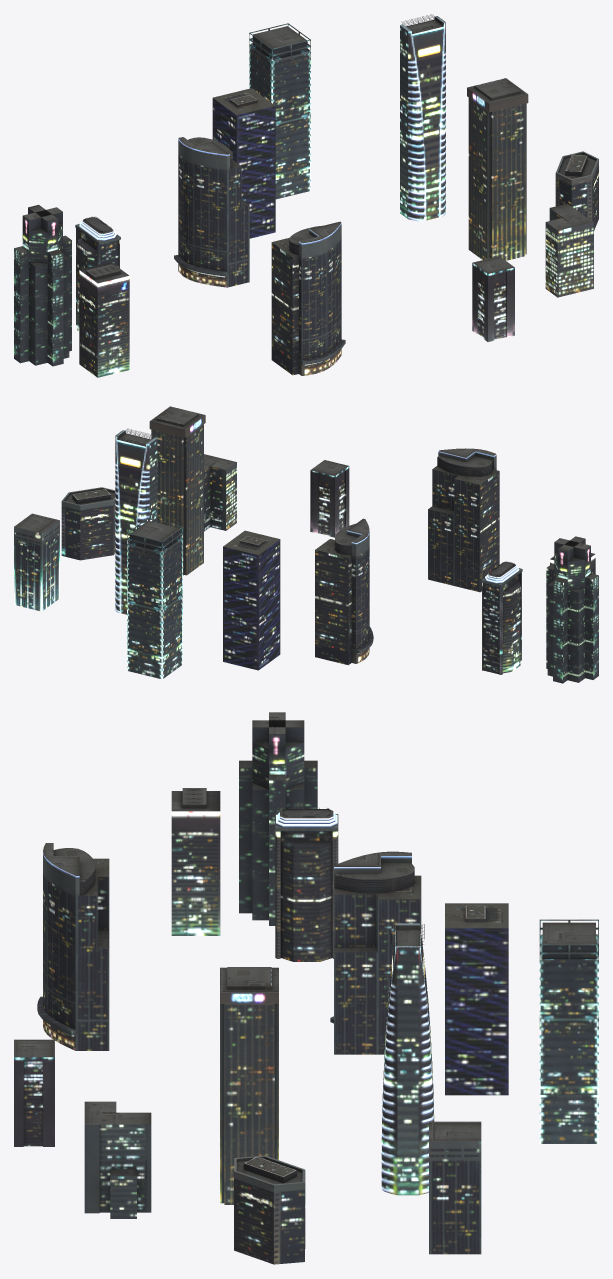
The model's file is 2Background Buildings.fbx.
3 renders of one model, top to bottom at view 1: azimuth 30°, elevation 25°; view 2: azimuth 150°, elevation 25°; view 3: azimuth 270°, elevation 25°, orthographic. The views are drawn at different scales.
Parts seen in each view (by area): view 1: Cube.014, Cube.017, Cube.018, Cube.011, Cube.002, Cube.010, Cube.009, Cube.003, Cube.015, Cube.016, Cube.013, Cube.004; view 2: Cube.017, Cube.010, Cube.009, Cube.018, Cube.002, Cube.014, Cube.011, Cube.004, Cube.012, Cube.013, Cube.016, Cube.015; view 3: Cube.010, Cube.017, Cube.018, Cube.009, Cube.011, Cube.014, Cube.002, Cube.004, Cube.015, Cube.003, Cube.013, Cube.012 (+1 smaller).
Part boxes in pixels (x1,y1,x2,y2): Cube.014: [467, 78, 528, 260]; Cube.017: [271, 221, 345, 375]; Cube.018: [174, 137, 249, 287]; Cube.011: [400, 14, 445, 221]; Cube.002: [14, 204, 71, 366]; Cube.010: [249, 23, 310, 199]; Cube.009: [212, 88, 275, 238]; Cube.003: [79, 262, 129, 377]; Cube.015: [545, 203, 593, 297]; Cube.016: [472, 256, 514, 341]; Cube.013: [555, 151, 598, 230]; Cube.004: [75, 216, 120, 331]; Cube.017: [428, 448, 499, 592]; Cube.010: [127, 518, 182, 679]; Cube.009: [223, 530, 280, 670]; Cube.018: [315, 518, 373, 665]; Cube.002: [546, 536, 598, 683]; Cube.014: [149, 406, 205, 575]; Cube.011: [115, 428, 157, 614]; Cube.004: [481, 561, 522, 674]; Cube.012: [14, 513, 59, 611]; Cube.013: [61, 487, 115, 560]; Cube.016: [310, 460, 349, 537]; Cube.015: [204, 454, 236, 531]; Cube.010: [539, 919, 598, 1143]; Cube.017: [37, 843, 109, 1050]; Cube.018: [330, 851, 421, 1054]; Cube.009: [445, 903, 508, 1095]; Cube.011: [381, 923, 434, 1195]; Cube.014: [220, 967, 278, 1204]; Cube.002: [239, 712, 317, 925]; Cube.004: [275, 808, 338, 961]; Cube.015: [84, 1101, 151, 1218]; Cube.003: [171, 788, 220, 935]; Cube.013: [234, 1155, 305, 1264]; Cube.012: [429, 1121, 481, 1254].
Size of the model in its own units: 4709 by 1480 by 3116.
